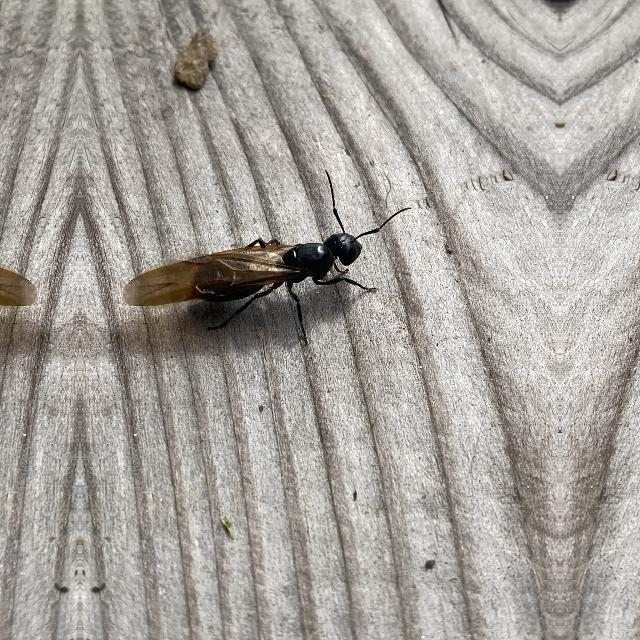Camponotus: (149, 194, 379, 320)
